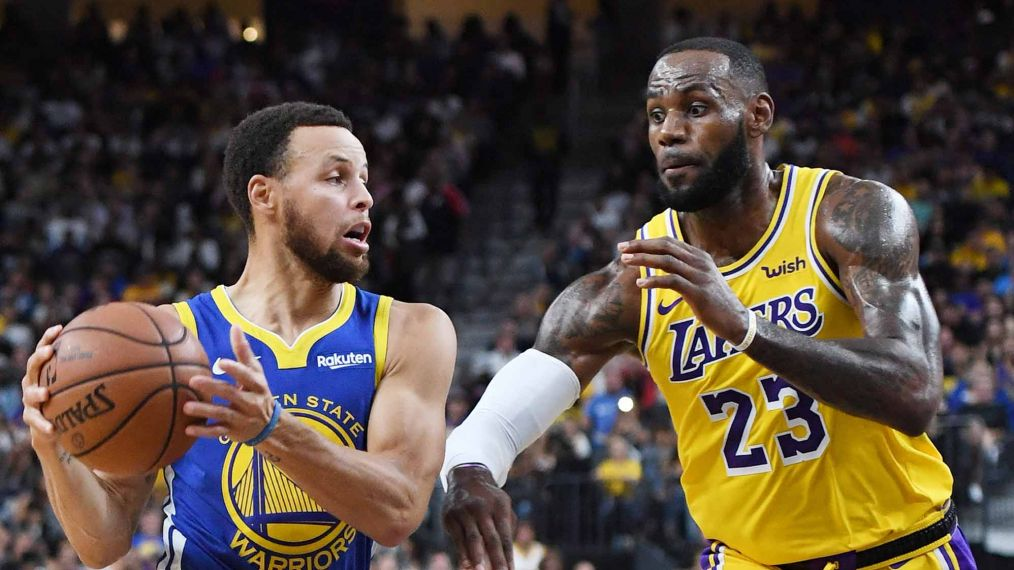Basketball: (36, 299, 218, 476)
